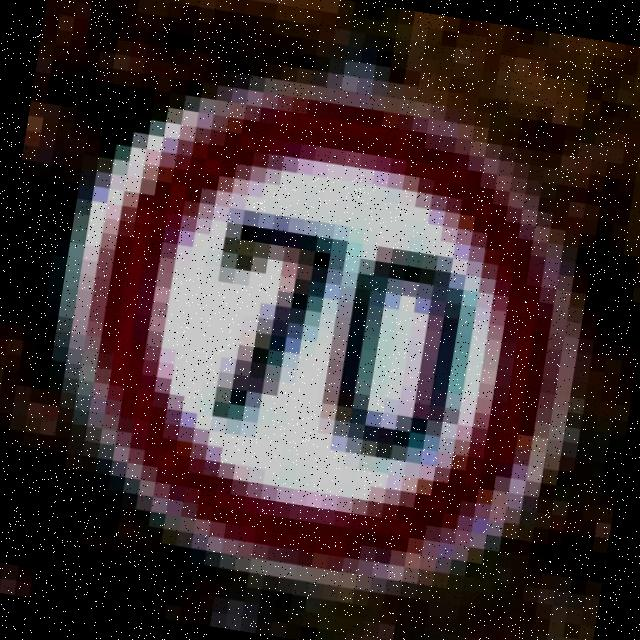Ograniczenie predkosci do 70: (43, 55, 602, 613)
